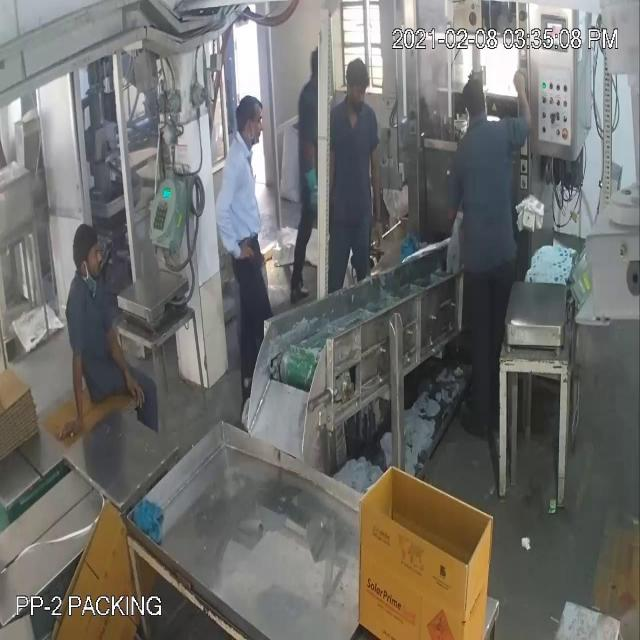No_Gloves: (22, 79, 521, 390)
